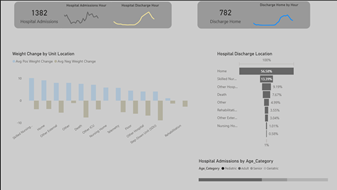

This screenshot's page, from the dashboard's own definition file:
{"tool":"powerbi","page":{"name":"Page 1","canvas":[1280,720],"ordinal":0},"visuals":[{"type":"lineChart","title":"Discharge Home by Hour","fields":{"Category":["EHR.HospitalDischargeHr"],"Y":["EHR.Discharge Home"]},"box":[938.9,2.9,239.5,103.6],"z":0},{"type":"lineChart","title":"Hospital Admissions Hour","fields":{"Category":["EHR.HospitalAdmitHr"],"Y":["EHR.Hospital Admissions"]},"box":[218.6,4.8,212.9,100.7],"z":1000},{"type":"card","fields":{"Values":["EHR.records"]},"box":[51.3,4.8,190.1,100.7],"z":2000},{"type":"hundredPercentStackedBarChart","fields":{"Y":["EHR.Hospital Admissions"],"Series":["EHR.Age_Category"]},"box":[748.8,599.6,501.7,109.3],"z":3000},{"type":"funnel","title":"Hospital Discharge Location","fields":{"Category":["EHR.hospitaldischargelocation"],"Y":["EHR.Admit%"]},"box":[819.1,192,306,371.6],"z":4000},{"type":"lineChart","title":"Hospital Discharge Hour","fields":{"Category":["EHR.HospitalDischargeHr"],"Y":["EHR.Hospital Admissions"]},"box":[409.6,4.8,241.4,100.7],"z":5000},{"type":"card","fields":{"Values":["EHR.Discharge Home"]},"box":[748.8,2.9,212.9,103.6],"z":6000},{"type":"clusteredColumnChart","title":"Weight Change by Unit Location","fields":{"Category":["EHR.unitdischargelocation"],"Y":["EHR.Avg Pos Weight Change","EHR.Avg Neg Weight Change"]},"box":[39,192,696.5,371.6],"z":7000}]}

Visuals, with their boxes in screenshot pixels (x1, y1, x2, y2), scaled from the page's 1280x720 canvas onto the 337x190 screenshot:
"Discharge Home by Hour" lineChart: bbox(247, 1, 310, 28)
"Hospital Admissions Hour" lineChart: bbox(58, 1, 114, 28)
card - EHR.records: bbox(14, 1, 64, 28)
hundredPercentStackedBarChart - EHR.Hospital Admissions x EHR.Age_Category: bbox(197, 158, 329, 187)
"Hospital Discharge Location" funnel: bbox(216, 51, 296, 149)
"Hospital Discharge Hour" lineChart: bbox(108, 1, 171, 28)
card - EHR.Discharge Home: bbox(197, 1, 253, 28)
"Weight Change by Unit Location" clusteredColumnChart: bbox(10, 51, 194, 149)
